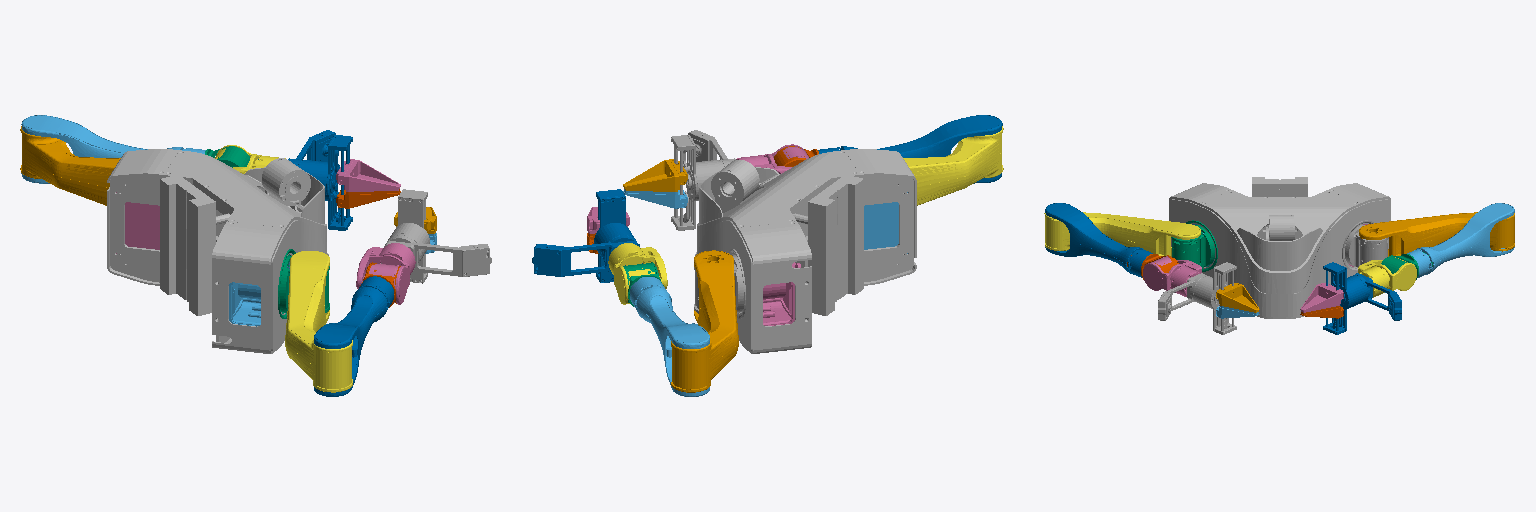
robot.urdf — mmk2:
<?xml version="1.0" ?>
<!-- =================================================================================== -->
<!-- |    This document was autogenerated by xacro from robot.xacro                    | -->
<!-- |    EDITING THIS FILE BY HAND IS NOT RECOMMENDED                                 | -->
<!-- =================================================================================== -->
<robot name="mmk2">
  <link name="base_link">
    <inertial>
      <origin xyz="-0.0400313721989715 -0.0226608008968248 0.756257223317173"/>
      <mass value="33.0267456398628"/>
      <inertia ixx="3.44838378637062" ixy="-0.00207943141138886" ixz="-0.0103091786755565" iyy="3.49493780774117" iyz="-0.00146679448998739" izz="0.21980548376876"/>
    </inertial>
    <visual>
      <geometry>
        <mesh filename="package://airbot_mmk2_description/meshes/base_link.obj"/>
      </geometry>
    </visual>
    <collision>
      <geometry>
        <mesh filename="package://airbot_mmk2_description/meshes/base_link.obj"/>
      </geometry>
    </collision>
  </link>
  <link name="rgt_wheel_link">
    <inertial>
      <origin xyz="5.20143266670436E-06 5.37603125005695E-07 -0.0018711144360713"/>
      <mass value="1.15656808640541"/>
      <inertia ixx="0.0021044922532766" ixy="1.88606601059021E-10" ixz="-3.50324127667933E-07" iyy="0.00210448664280546" iyz="-3.619495141978E-08" izz="0.00355284737378788"/>
    </inertial>
    <visual>
      <geometry>
        <mesh filename="package://airbot_mmk2_description/meshes/rgt_wheel_link.STL"/>
      </geometry>
      <material name="">
        <color rgba="0.752941176470588 0.752941176470588 0.752941176470588 1"/>
      </material>
    </visual>
    <collision>
      <geometry>
        <mesh filename="package://airbot_mmk2_description/meshes/rgt_wheel_link.STL"/>
      </geometry>
    </collision>
  </link>
  <joint name="rgt_wheel_joint" type="revolute">
    <origin rpy="1.5708 1.5708 0" xyz="0 -0.16325 0.08401"/>
    <parent link="base_link"/>
    <child link="rgt_wheel_link"/>
    <axis xyz="0 0 1"/>
    <limit effort="6.5" lower="-3.1416" upper="3.1416" velocity="0.7"/>
  </joint>
  <link name="lft_wheel_link">
    <inertial>
      <origin xyz="1.28756699316335E-06 -5.0575586944921E-06 0.00187111444199509"/>
      <mass value="1.15656808621832"/>
      <inertia ixx="0.00210448719172768" ixy="-1.67788115008943E-09" ixz="8.7251015028674E-08" iyy="0.00210449170378954" iyz="-3.41206350459015E-07" izz="0.00355284737380655"/>
    </inertial>
    <visual>
      <geometry>
        <mesh filename="package://airbot_mmk2_description/meshes/lft_wheel_link.STL"/>
      </geometry>
      <material name="">
        <color rgba="0.752941176470588 0.752941176470588 0.752941176470588 1"/>
      </material>
    </visual>
    <collision>
      <geometry>
        <mesh filename="package://airbot_mmk2_description/meshes/lft_wheel_link.STL"/>
      </geometry>
    </collision>
  </link>
  <joint name="lft_wheel_joint" type="revolute">
    <origin rpy="1.5708 1.5708 0" xyz="0 0.16325 0.08401"/>
    <parent link="base_link"/>
    <child link="lft_wheel_link"/>
    <axis xyz="0 0 1"/>
    <limit effort="6.5" lower="-3.1416" upper="3.1416" velocity="0.7"/>
  </joint>
  <link name="slide_link">
    <inertial>
      <origin xyz="-7.90494393625066E-05 0.067355217450789 0.10519083626064"/>
      <mass value="2.87043102920673"/>
      <inertia ixx="0.00899755064402379" ixy="6.09937870252811E-07" ixz="2.90775161414524E-06" iyy="0.0119634133355932" iyz="-0.000250919444280722" izz="0.00864817587777869"/>
    </inertial>
    <visual>
      <geometry>
        <mesh filename="package://airbot_mmk2_description/meshes/slide.obj"/>
      </geometry>
      <material name="">
        <color rgba="0.752941176470588 0.752941176470588 0.752941176470588 1"/>
      </material>
    </visual>
    <collision>
      <geometry>
        <mesh filename="package://airbot_mmk2_description/meshes/slide.obj"/>
      </geometry>
    </collision>
  </link>
  <joint name="slide_joint" type="prismatic">
    <origin rpy="3.1416 0 1.5708" xyz="0.033942 -0.00025 1.406"/>
    <parent link="base_link"/>
    <child link="slide_link"/>
    <axis xyz="0 0 1"/>
    <limit effort="5" lower="-0.04" upper="0.87" velocity="0.3"/>
  </joint>
  <link name="head_yaw_link">
    <inertial>
      <origin xyz="0.0118490941462296 0.000491254783341499 0.0390231494943873"/>
      <mass value="0.263127360420809"/>
      <inertia ixx="0.000185798854547827" ixy="2.64309797822853E-07" ixz="-2.93582511724902E-05" iyy="0.000173833362201622" iyz="-2.8054841555532E-06" izz="9.38655776831082E-05"/>
    </inertial>
    <visual>
      <geometry>
        <mesh filename="package://airbot_mmk2_description/meshes/head_yaw.obj"/>
      </geometry>
      <material name="">
        <color rgba="0.752941176470588 0.752941176470588 0.752941176470588 1"/>
      </material>
    </visual>
    <collision>
      <geometry>
        <mesh filename="package://airbot_mmk2_description/meshes/head_yaw.obj"/>
      </geometry>
    </collision>
  </link>
  <joint name="head_yaw_joint" type="revolute">
    <origin rpy="3.1416 0 0" xyz="0 0.1735 0.07242"/>
    <parent link="slide_link"/>
    <child link="head_yaw_link"/>
    <axis xyz="0 0 1"/>
    <limit effort="2" lower="-0.5" upper="0.5" velocity="0.2"/>
  </joint>
  <link name="head_pitch_link">
    <inertial>
      <origin xyz="0.0244659096221799 -0.108421751901101 -0.00311687659834824"/>
      <mass value="0.500765947013434"/>
      <inertia ixx="0.00157924187002826" ixy="2.16781765858799E-05" ixz="-1.02638171835218E-06" iyy="0.000804096450222595" iyz="1.48815549401623E-05" izz="0.00113048749298996"/>
    </inertial>
    <visual>
      <geometry>
        <mesh filename="package://airbot_mmk2_description/meshes/head_pitch.obj"/>
      </geometry>
      <material name="">
        <color rgba="0.752941176470588 0.752941176470588 0.752941176470588 1"/>
      </material>
    </visual>
    <collision>
      <geometry>
        <mesh filename="package://airbot_mmk2_description/meshes/head_pitch.obj"/>
      </geometry>
    </collision>
  </link>
  <joint name="head_pitch_joint" type="revolute">
    <origin rpy="-1.5708 0 -1.5397" xyz="0.00099952 3.1059E-05 0.058"/>
    <parent link="head_yaw_link"/>
    <child link="head_pitch_link"/>
    <axis xyz="0 0 1"/>
    <limit effort="2" lower="-0.16" upper="1.18" velocity="0.2"/>
  </joint>
  <!-- left arm -->
  <joint name="left_arm_fixed_joint" type="fixed">
    <origin rpy="1.57079633 0 2.356194490192345" xyz="0.10174 0.02283 0.09475"/>
    <parent link="slide_link"/>
    <child link="left_base_link"/>
  </joint>
  <link name="left_base_link">
    <inertial>
      <origin xyz="-0.010729 -0.00017015 0.041712"/>
      <mass value="0.77705"/>
      <inertia ixx="0.0008454" ixy="-7.5E-06" ixz="2.06E-05" iyy="0.0011821" iyz="-6.4E-06" izz="0.0012443"/>
    </inertial>
    <visual>
      <geometry>
        <mesh filename="package://airbot_play_description/meshes/arm_base.obj"/>
      </geometry>
    </visual>
    <collision>
      <geometry>
        <mesh filename="package://airbot_play_description/meshes/arm_base.obj"/>
      </geometry>
    </collision>
  </link>
  <link name="left_link1">
    <inertial>
      <origin xyz="7.9126E-05 -0.002527 -0.0041359"/>
      <mass value="0.54639"/>
      <inertia ixx="0.0003462" ixy="0" ixz="-1.4E-06" iyy="0.0002863" iyz="-1.1E-06" izz="0.0003255"/>
    </inertial>
    <visual>
      <geometry>
        <mesh filename="package://airbot_play_description/meshes/link1.obj"/>
      </geometry>
    </visual>
    <collision>
      <geometry>
        <mesh filename="package://airbot_play_description/meshes/link1.obj"/>
      </geometry>
    </collision>
  </link>
  <joint name="left_joint1" type="revolute">
    <origin xyz="0 0 0.1172"/>
    <parent link="left_base_link"/>
    <child link="left_link1"/>
    <axis xyz="0 0 1"/>
    <limit effort="18" lower="-3.14" upper="2.09" velocity="3.14"/>
  </joint>
  <link name="left_link2">
    <inertial>
      <origin xyz="0.22493 0.0047721 0.008023"/>
      <mass value="0.64621"/>
      <inertia ixx="0.0004901" ixy="0.0005229" ixz="-0.0002434" iyy="0.0050391" iyz="-2.95E-05" izz="0.0051052"/>
    </inertial>
    <visual>
      <geometry>
        <mesh filename="package://airbot_play_description/meshes/link2.obj"/>
      </geometry>
    </visual>
    <collision>
      <geometry>
        <mesh filename="package://airbot_play_description/meshes/link2.obj"/>
      </geometry>
    </collision>
  </link>
  <joint name="left_joint2" type="revolute">
    <origin rpy="1.5708 -2.7549 0"/>
    <parent link="left_link1"/>
    <child link="left_link2"/>
    <axis xyz="0 0 1"/>
    <limit effort="18" lower="-2.96" upper="0.17" velocity="3.14"/>
  </joint>
  <link name="left_link3">
    <inertial>
      <origin xyz="0.16813 -5.5576E-05 0.0031184"/>
      <mass value="0.26829"/>
      <inertia ixx="0.000245" ixy="-4E-07" ixz="-0.0001263" iyy="0.0031527" iyz="-1E-07" izz="0.0030895"/>
    </inertial>
    <visual>
      <geometry>
        <mesh filename="package://airbot_play_description/meshes/link3.obj"/>
      </geometry>
    </visual>
    <collision>
      <geometry>
        <mesh filename="package://airbot_play_description/meshes/link3.obj"/>
      </geometry>
    </collision>
  </link>
  <joint name="left_joint3" type="revolute">
    <origin rpy="0 0 -2.7549" xyz="0.27009 0 0"/>
    <parent link="left_link2"/>
    <child link="left_link3"/>
    <axis xyz="0 0 1"/>
    <limit effort="18" lower="-0.087" upper="3.14" velocity="3.14"/>
  </joint>
  <link name="left_link4">
    <inertial>
      <origin xyz="5.2436E-06 0.00040412 -0.03228"/>
      <mass value="0.34876"/>
      <inertia ixx="0.0004235" ixy="0" ixz="4.7E-06" iyy="0.000412" iyz="-1E-07" izz="0.0001269"/>
    </inertial>
    <visual>
      <geometry>
        <mesh filename="package://airbot_play_description/meshes/link4.obj"/>
      </geometry>
    </visual>
    <collision>
      <geometry>
        <mesh filename="package://airbot_play_description/meshes/link4.obj"/>
      </geometry>
    </collision>
  </link>
  <joint name="left_joint4" type="revolute">
    <origin rpy="3.1416 -1.5708 0" xyz="0.29015 0 0"/>
    <parent link="left_link3"/>
    <child link="left_link4"/>
    <axis xyz="0 0 1"/>
    <limit effort="300" lower="-2.96" upper="2.96" velocity="6.28"/>
  </joint>
  <link name="left_link5">
    <inertial>
      <origin xyz="8.3328E-06 0.026148 0.002525"/>
      <mass value="0.36132"/>
      <inertia ixx="0.0001825" ixy="0" ixz="-3.29E-05" iyy="0.0004677" iyz="0" izz="0.0004286"/>
    </inertial>
    <visual>
      <geometry>
        <mesh filename="package://airbot_play_description/meshes/link5.obj"/>
      </geometry>
    </visual>
    <collision>
      <geometry>
        <mesh filename="package://airbot_play_description/meshes/link5.obj"/>
      </geometry>
    </collision>
  </link>
  <joint name="left_joint5" type="revolute">
    <origin rpy="1.5708 0 0"/>
    <parent link="left_link4"/>
    <child link="left_link5"/>
    <axis xyz="0 0 1"/>
    <limit effort="300" lower="-1.74" upper="1.74" velocity="6.28"/>
  </joint>
  <link name="left_link6">
    <inertial>
      <origin xyz="-0.0047053 7.3857E-05 -0.12293"/>
      <mass value="0.53855"/>
      <inertia ixx="5E-05" ixy="0" ixz="0" iyy="5E-05" iyz="0" izz="3.85E-05"/>
    </inertial>
    <visual>
      <geometry>
        <mesh filename="package://airbot_play_description/meshes/link6.obj"/>
      </geometry>
    </visual>
    <collision>
      <geometry>
        <mesh filename="package://airbot_play_description/meshes/link6.obj"/>
      </geometry>
    </collision>
  </link>
  <joint name="left_joint6" type="revolute">
    <origin rpy="-1.5708 1.5708 0" xyz="0 0.23645 0"/>
    <parent link="left_link5"/>
    <child link="left_link6"/>
    <axis xyz="0 0 1"/>
    <limit effort="300" lower="-3.14" upper="3.14" velocity="6.28"/>
  </joint>
  <link name="left_left">
    <inertial>
      <origin xyz="-0.049039 -0.0096764 0.00038868"/>
      <mass value="0.061803"/>
      <inertia ixx="1.8946E-05" ixy="-1.3168E-06" ixz="-6.5528E-07" iyy="2.7277E-05" iyz="-2.0801E-07" izz="1.1981E-05"/>
    </inertial>
    <visual>
      <geometry>
        <mesh filename="package://airbot_play_description/meshes/gripper.obj" scale="1 -1 1"/>
      </geometry>
    </visual>
    <collision>
      <geometry>
        <mesh filename="package://airbot_play_description/meshes/gripper.obj" scale="1 -1 1"/>
      </geometry>
    </collision>
  </link>
  <joint name="left_gripper_joint" type="prismatic">
    <origin rpy="0 -1.5708 0"/>
    <parent link="left_link6"/>
    <child link="left_left"/>
    <axis xyz="0 1 0"/>
    <limit effort="100" lower="0" upper="0.04" velocity="2"/>
  </joint>
  <link name="left_right">
    <inertial>
      <origin xyz="-0.048742 0.0096369 0.00044322"/>
      <mass value="0.0626"/>
      <inertia ixx="1.915E-05" ixy="1.343E-06" ixz="-6.8259E-07" iyy="2.7722E-05" iyz="2.0748E-07" izz="1.2248E-05"/>
    </inertial>
    <visual>
      <geometry>
        <mesh filename="package://airbot_play_description/meshes/gripper.obj"/>
      </geometry>
    </visual>
    <collision>
      <geometry>
        <mesh filename="package://airbot_play_description/meshes/gripper.obj"/>
      </geometry>
    </collision>
  </link>
  <joint name="left_endright" type="prismatic">
    <origin rpy="0 -1.5708 0"/>
    <parent link="left_link6"/>
    <child link="left_right"/>
    <axis xyz="0 -1 0"/>
    <limit effort="100" lower="0" upper="0.04" velocity="2"/>
    <mimic joint="left_gripper_joint" multiplier="1" offset="0"/>
  </joint>
  <link name="left_gripper_center"/>
  <joint name="left_joint_custom_end" type="fixed">
    <origin rpy="0 -1.5708 0" xyz="0 0 0.02"/>
    <parent link="left_link6"/>
    <child link="left_gripper_center"/>
  </joint>
  <link name="left_camera_link"/>
  <joint name="left_camera_joint" type="fixed">
    <origin rpy="0 -1.046 0" xyz="-0.105 0 -0.111"/>
    <parent link="left_link6"/>
    <child link="left_camera_link"/>
  </joint>
  <!-- right arm -->
  <joint name="right_arm_fixed_joint" type="fixed">
    <origin rpy="-1.57079633 0 0.7853981633974483" xyz="-0.10174 0.02283 0.09475"/>
    <parent link="slide_link"/>
    <child link="right_base_link"/>
  </joint>
  <link name="right_base_link">
    <inertial>
      <origin xyz="-0.010729 -0.00017015 0.041712"/>
      <mass value="0.77705"/>
      <inertia ixx="0.0008454" ixy="-7.5E-06" ixz="2.06E-05" iyy="0.0011821" iyz="-6.4E-06" izz="0.0012443"/>
    </inertial>
    <visual>
      <geometry>
        <mesh filename="package://airbot_play_description/meshes/arm_base.obj"/>
      </geometry>
    </visual>
    <collision>
      <geometry>
        <mesh filename="package://airbot_play_description/meshes/arm_base.obj"/>
      </geometry>
    </collision>
  </link>
  <link name="right_link1">
    <inertial>
      <origin xyz="7.9126E-05 -0.002527 -0.0041359"/>
      <mass value="0.54639"/>
      <inertia ixx="0.0003462" ixy="0" ixz="-1.4E-06" iyy="0.0002863" iyz="-1.1E-06" izz="0.0003255"/>
    </inertial>
    <visual>
      <geometry>
        <mesh filename="package://airbot_play_description/meshes/link1.obj"/>
      </geometry>
    </visual>
    <collision>
      <geometry>
        <mesh filename="package://airbot_play_description/meshes/link1.obj"/>
      </geometry>
    </collision>
  </link>
  <joint name="right_joint1" type="revolute">
    <origin xyz="0 0 0.1172"/>
    <parent link="right_base_link"/>
    <child link="right_link1"/>
    <axis xyz="0 0 1"/>
    <limit effort="18" lower="-3.14" upper="2.09" velocity="3.14"/>
  </joint>
  <link name="right_link2">
    <inertial>
      <origin xyz="0.22493 0.0047721 0.008023"/>
      <mass value="0.64621"/>
      <inertia ixx="0.0004901" ixy="0.0005229" ixz="-0.0002434" iyy="0.0050391" iyz="-2.95E-05" izz="0.0051052"/>
    </inertial>
    <visual>
      <geometry>
        <mesh filename="package://airbot_play_description/meshes/link2.obj"/>
      </geometry>
    </visual>
    <collision>
      <geometry>
        <mesh filename="package://airbot_play_description/meshes/link2.obj"/>
      </geometry>
    </collision>
  </link>
  <joint name="right_joint2" type="revolute">
    <origin rpy="1.5708 -2.7549 0"/>
    <parent link="right_link1"/>
    <child link="right_link2"/>
    <axis xyz="0 0 1"/>
    <limit effort="18" lower="-2.96" upper="0.17" velocity="3.14"/>
  </joint>
  <link name="right_link3">
    <inertial>
      <origin xyz="0.16813 -5.5576E-05 0.0031184"/>
      <mass value="0.26829"/>
      <inertia ixx="0.000245" ixy="-4E-07" ixz="-0.0001263" iyy="0.0031527" iyz="-1E-07" izz="0.0030895"/>
    </inertial>
    <visual>
      <geometry>
        <mesh filename="package://airbot_play_description/meshes/link3.obj"/>
      </geometry>
    </visual>
    <collision>
      <geometry>
        <mesh filename="package://airbot_play_description/meshes/link3.obj"/>
      </geometry>
    </collision>
  </link>
  <joint name="right_joint3" type="revolute">
    <origin rpy="0 0 -2.7549" xyz="0.27009 0 0"/>
    <parent link="right_link2"/>
    <child link="right_link3"/>
    <axis xyz="0 0 1"/>
    <limit effort="18" lower="-0.087" upper="3.14" velocity="3.14"/>
  </joint>
  <link name="right_link4">
    <inertial>
      <origin xyz="5.2436E-06 0.00040412 -0.03228"/>
      <mass value="0.34876"/>
      <inertia ixx="0.0004235" ixy="0" ixz="4.7E-06" iyy="0.000412" iyz="-1E-07" izz="0.0001269"/>
    </inertial>
    <visual>
      <geometry>
        <mesh filename="package://airbot_play_description/meshes/link4.obj"/>
      </geometry>
    </visual>
    <collision>
      <geometry>
        <mesh filename="package://airbot_play_description/meshes/link4.obj"/>
      </geometry>
    </collision>
  </link>
  <joint name="right_joint4" type="revolute">
    <origin rpy="3.1416 -1.5708 0" xyz="0.29015 0 0"/>
    <parent link="right_link3"/>
    <child link="right_link4"/>
    <axis xyz="0 0 1"/>
    <limit effort="300" lower="-2.96" upper="2.96" velocity="6.28"/>
  </joint>
  <link name="right_link5">
    <inertial>
      <origin xyz="8.3328E-06 0.026148 0.002525"/>
      <mass value="0.36132"/>
      <inertia ixx="0.0001825" ixy="0" ixz="-3.29E-05" iyy="0.0004677" iyz="0" izz="0.0004286"/>
    </inertial>
    <visual>
      <geometry>
        <mesh filename="package://airbot_play_description/meshes/link5.obj"/>
      </geometry>
    </visual>
    <collision>
      <geometry>
        <mesh filename="package://airbot_play_description/meshes/link5.obj"/>
      </geometry>
    </collision>
  </link>
  <joint name="right_joint5" type="revolute">
    <origin rpy="1.5708 0 0"/>
    <parent link="right_link4"/>
    <child link="right_link5"/>
    <axis xyz="0 0 1"/>
    <limit effort="300" lower="-1.74" upper="1.74" velocity="6.28"/>
  </joint>
  <link name="right_link6">
    <inertial>
      <origin xyz="-0.0047053 7.3857E-05 -0.12293"/>
      <mass value="0.53855"/>
      <inertia ixx="5E-05" ixy="0" ixz="0" iyy="5E-05" iyz="0" izz="3.85E-05"/>
    </inertial>
    <visual>
      <geometry>
        <mesh filename="package://airbot_play_description/meshes/link6.obj"/>
      </geometry>
    </visual>
    <collision>
      <geometry>
        <mesh filename="package://airbot_play_description/meshes/link6.obj"/>
      </geometry>
    </collision>
  </link>
  <joint name="right_joint6" type="revolute">
    <origin rpy="-1.5708 1.5708 0" xyz="0 0.23645 0"/>
    <parent link="right_link5"/>
    <child link="right_link6"/>
    <axis xyz="0 0 1"/>
    <limit effort="300" lower="-3.14" upper="3.14" velocity="6.28"/>
  </joint>
  <link name="right_left">
    <inertial>
      <origin xyz="-0.049039 -0.0096764 0.00038868"/>
      <mass value="0.061803"/>
      <inertia ixx="1.8946E-05" ixy="-1.3168E-06" ixz="-6.5528E-07" iyy="2.7277E-05" iyz="-2.0801E-07" izz="1.1981E-05"/>
    </inertial>
    <visual>
      <geometry>
        <mesh filename="package://airbot_play_description/meshes/gripper.obj" scale="1 -1 1"/>
      </geometry>
    </visual>
    <collision>
      <geometry>
        <mesh filename="package://airbot_play_description/meshes/gripper.obj" scale="1 -1 1"/>
      </geometry>
    </collision>
  </link>
  <joint name="right_gripper_joint" type="prismatic">
    <origin rpy="0 -1.5708 0"/>
    <parent link="right_link6"/>
    <child link="right_left"/>
    <axis xyz="0 1 0"/>
    <limit effort="100" lower="0" upper="0.04" velocity="2"/>
  </joint>
  <link name="right_right">
    <inertial>
      <origin xyz="-0.048742 0.0096369 0.00044322"/>
      <mass value="0.0626"/>
      <inertia ixx="1.915E-05" ixy="1.343E-06" ixz="-6.8259E-07" iyy="2.7722E-05" iyz="2.0748E-07" izz="1.2248E-05"/>
    </inertial>
    <visual>
      <geometry>
        <mesh filename="package://airbot_play_description/meshes/gripper.obj"/>
      </geometry>
    </visual>
    <collision>
      <geometry>
        <mesh filename="package://airbot_play_description/meshes/gripper.obj"/>
      </geometry>
    </collision>
  </link>
  <joint name="right_endright" type="prismatic">
    <origin rpy="0 -1.5708 0"/>
    <parent link="right_link6"/>
    <child link="right_right"/>
    <axis xyz="0 -1 0"/>
    <limit effort="100" lower="0" upper="0.04" velocity="2"/>
    <mimic joint="right_gripper_joint" multiplier="1" offset="0"/>
  </joint>
  <link name="right_gripper_center"/>
  <joint name="right_joint_custom_end" type="fixed">
    <origin rpy="0 -1.5708 0" xyz="0 0 0.02"/>
    <parent link="right_link6"/>
    <child link="right_gripper_center"/>
  </joint>
  <link name="right_camera_link"/>
  <joint name="right_camera_joint" type="fixed">
    <origin rpy="0 -1.046 0" xyz="-0.105 0 -0.111"/>
    <parent link="right_link6"/>
    <child link="right_camera_link"/>
  </joint>
</robot>

--- What the picture shows (computed from the rendered views, not written in the file) ---
3 views of the same robot in one strip: view 1: azimuth 30°, elevation 25°; view 2: azimuth 150°, elevation 25°; view 3: azimuth 270°, elevation 25° (orthographic).
Robot: mmk2 — 28 links, 27 joints (16 revolute, 5 prismatic, 6 fixed); root link base_link; default pose: every joint at zero.
Visible links, largest first — view 1: slide_link, right_link2, left_link2, right_link6, right_link3, left_link6, left_link3, right_link5, head_yaw_link, left_base_link, left_right, right_base_link (+3 smaller); view 2: slide_link, left_link2, right_link2, left_link6, left_link3, right_link6, right_link3, head_yaw_link, left_link5, right_base_link, right_left, left_base_link (+3 smaller); view 3: slide_link, left_link2, right_link2, left_link3, right_link3, left_link6, right_link6, right_link5, right_link1, left_link1, left_link5, left_right (+2 smaller).
Link boxes in pixels (bbox=[...]): slide_link: bbox=[107, 149, 328, 353]; right_link2: bbox=[285, 251, 352, 392]; left_link2: bbox=[20, 126, 120, 205]; right_link6: bbox=[381, 189, 491, 283]; right_link3: bbox=[314, 276, 393, 396]; left_link6: bbox=[258, 130, 352, 230]; left_link3: bbox=[21, 115, 205, 183]; right_link5: bbox=[356, 243, 415, 304]; head_yaw_link: bbox=[262, 158, 310, 213]; left_base_link: bbox=[116, 192, 159, 253]; left_right: bbox=[336, 159, 400, 191]; right_base_link: bbox=[229, 262, 289, 326]; slide_link: bbox=[695, 149, 916, 353]; left_link2: bbox=[671, 250, 738, 392]; right_link2: bbox=[903, 126, 1003, 205]; left_link6: bbox=[532, 189, 642, 282]; left_link3: bbox=[630, 277, 709, 396]; right_link6: bbox=[671, 130, 735, 230]; right_link3: bbox=[818, 115, 1002, 183]; head_yaw_link: bbox=[711, 160, 760, 212]; left_link5: bbox=[608, 243, 667, 304]; right_base_link: bbox=[864, 192, 907, 253]; right_left: bbox=[623, 159, 687, 191]; left_base_link: bbox=[763, 262, 800, 325]; slide_link: bbox=[1169, 177, 1390, 318]; left_link2: bbox=[1359, 212, 1514, 256]; right_link2: bbox=[1044, 212, 1200, 256]; left_link3: bbox=[1407, 203, 1514, 277]; right_link3: bbox=[1045, 203, 1152, 277]; left_link6: bbox=[1323, 262, 1401, 334]; right_link6: bbox=[1158, 262, 1236, 334]; right_link5: bbox=[1143, 256, 1201, 296]; right_link1: bbox=[1171, 220, 1217, 271]; left_link1: bbox=[1342, 220, 1388, 271]; left_link5: bbox=[1358, 257, 1416, 297]; left_right: bbox=[1300, 283, 1343, 312].
Bounding box of the posed robot: 0.4404 × 0.927 × 0.2036 m (x, y, z).
Meshes: 14 distinct files referenced, 20 mesh visuals loaded (10 OBJ); not drawn: 4 (reference not matched to a file when rendering).